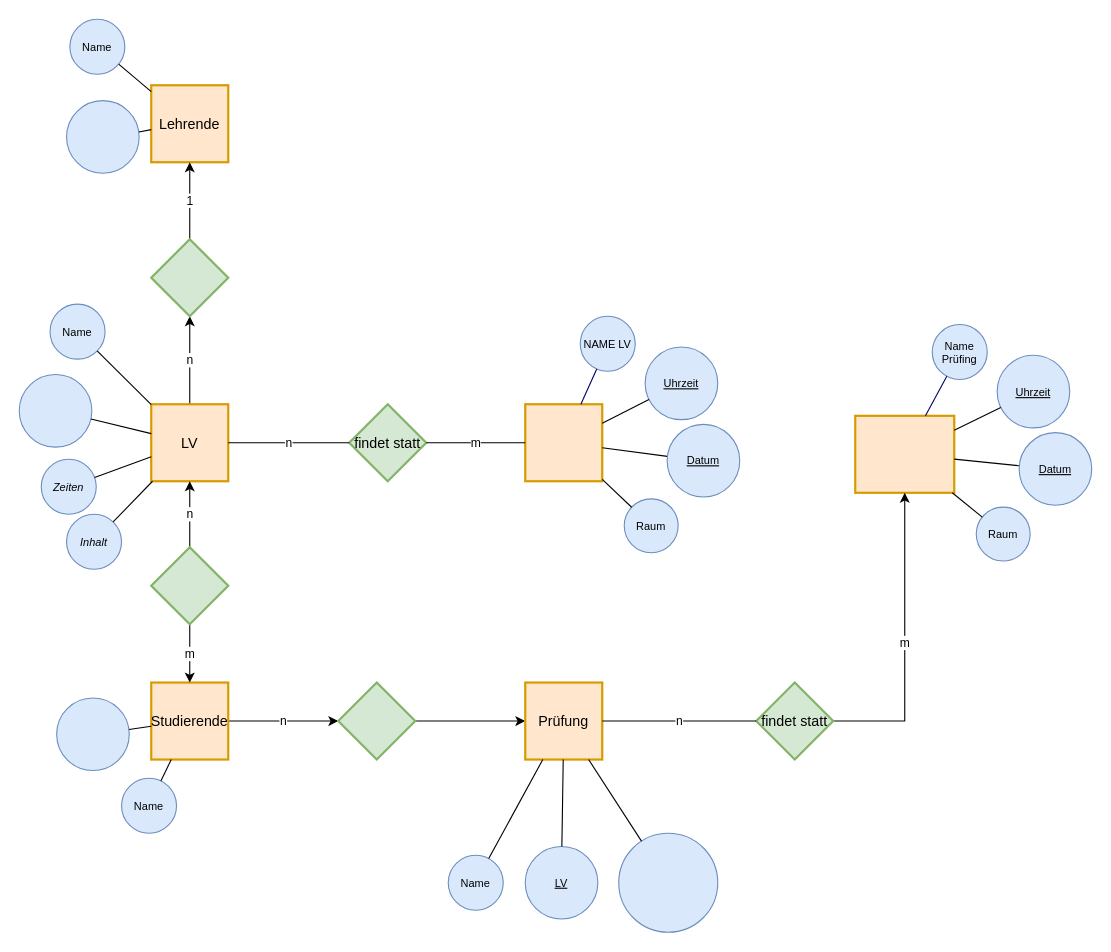
The diagram is 1111 pixels wide and 952 high, and some of its shapes have lost their labels. Here are the shapes that lost their labels. From the top down, the centre of each, then its label:
At point 102,136: "LehrNr".
At point 189,277: "unterrichten".
At point 55,410: "ECTS".
At point 563,442: "LVSlot".
At point 904,453: "Prüfungsslot".
At point 189,585: "besuchen".
At point 92,734: "StudNr".
At point 376,720: "schreiben".
At point 668,882: "Aufgabenstellung".
